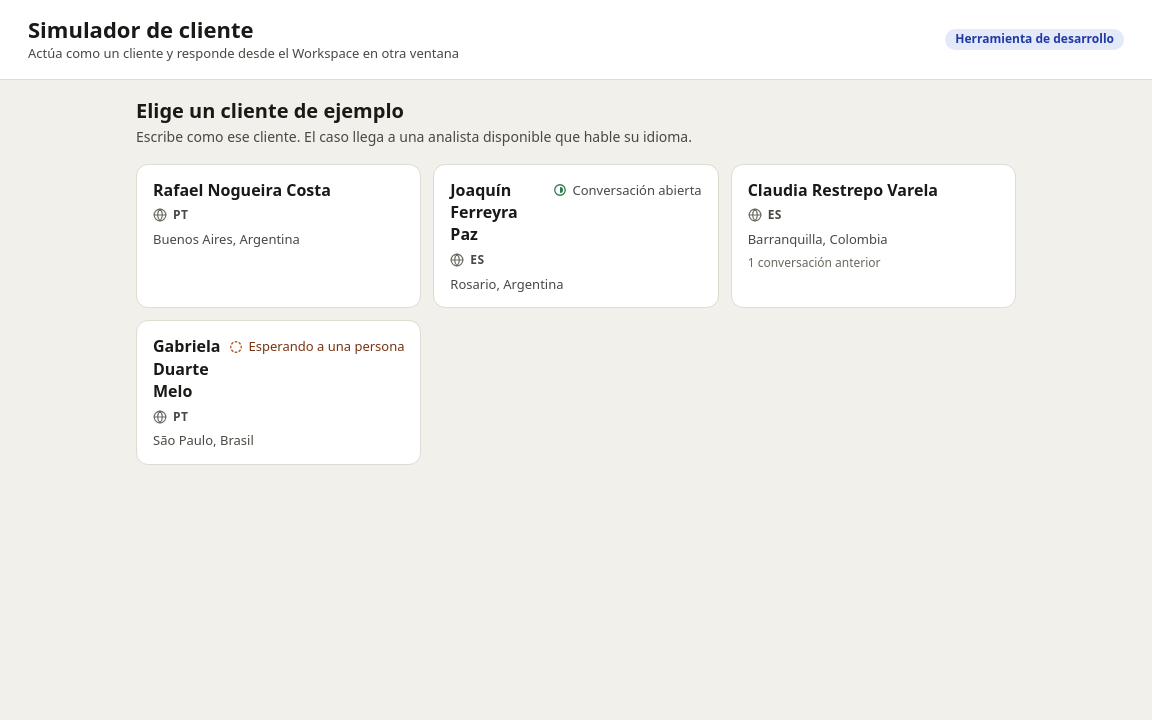
it: CustomerSimulatorScreen · picker › lists the sample customers and opens a session for the one picked
The image size is (1152, 720).
Expected: the heading "Simulador de cliente" is shown, [28,14,254,44]
Expected: the text "Herramienta de desarrollo" is shown, [945,29,1124,50]
Step 1. Click the button "Rafael Nogueira Costa PT Buenos Aires, Argentina" → click(279, 236), box [136,164,421,308]
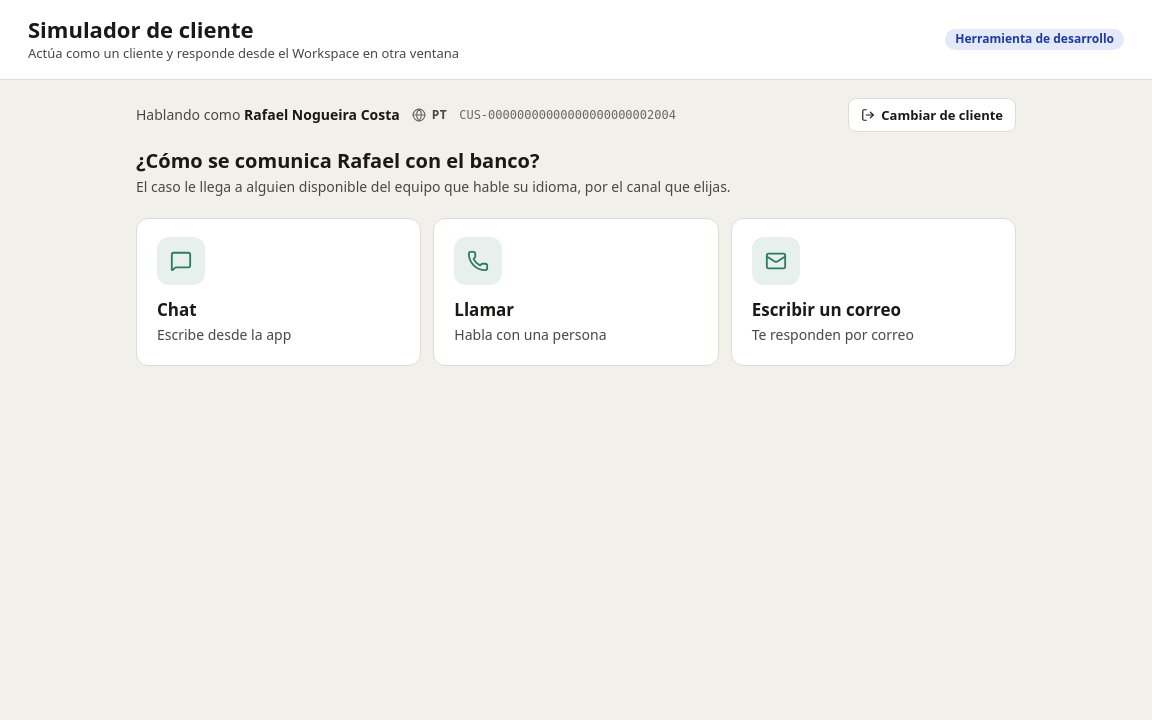
Now the heading "¿Cómo se comunica Rafael con el banco?" is shown, box [136,147,540,174]
Step 2. Click the button "Chat Escribe desde la app" → click(181, 261), box [136,218,421,366]
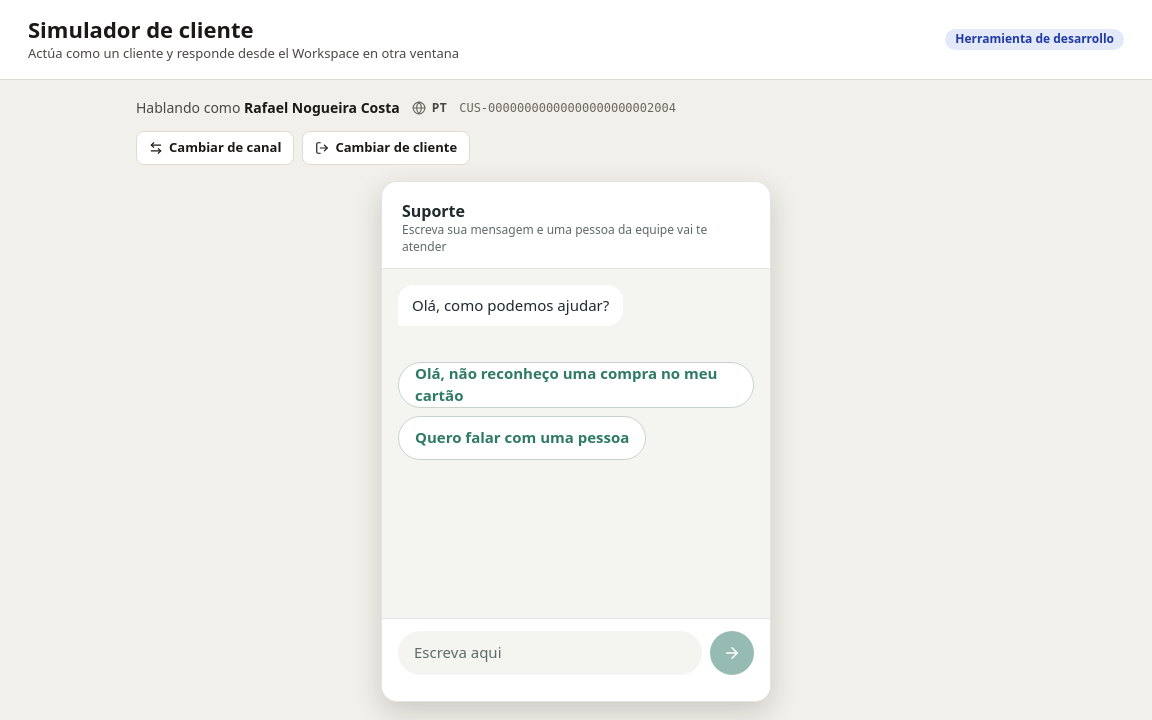
Now the text "Suporte" is shown, box [402,200,465,222]
